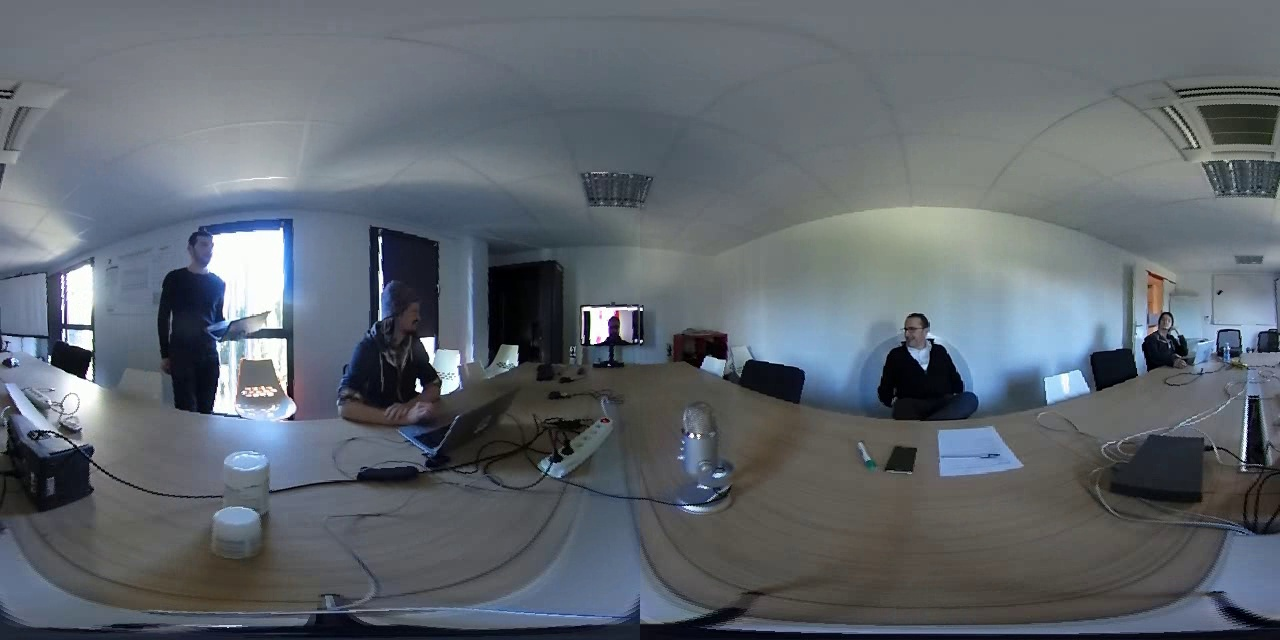person: (150, 215, 252, 401), (337, 276, 438, 422), (870, 304, 977, 425), (1137, 303, 1197, 370), (582, 307, 647, 349)
